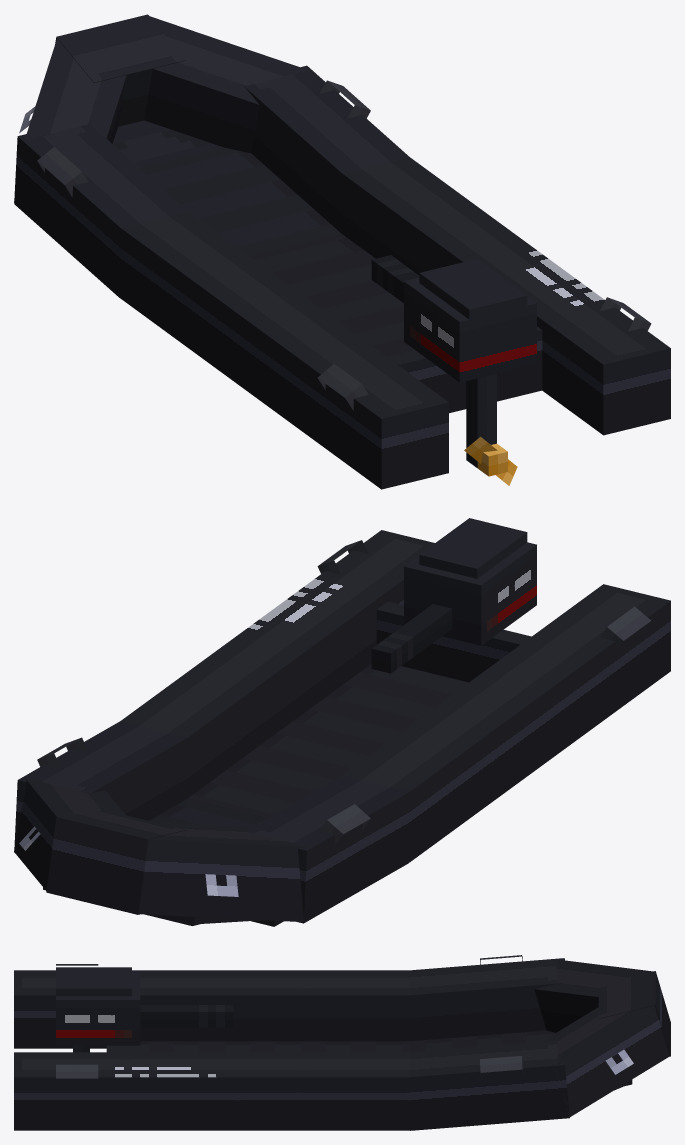
File: rubber_boat.gltf
The picture shows the model from 3 angles, top to bottom: view 1: azimuth 30°, elevation 25°; view 2: azimuth 150°, elevation 25°; view 3: azimuth 270°, elevation 25°; orthographic projection. The views are drawn at different scales.
Parts seen in each view (by area): view 1: rubber_boat (×5), rubber_boat2 (×4), rubber_boat3 (×4), engine (×4), propeller; view 2: rubber_boat (×5), rubber_boat3 (×3), rubber_boat2 (×4), engine (×3); view 3: rubber_boat (×4), rubber_boat2 (×4), rubber_boat3 (×4), engine (×3).
Boxes of the visible parts, left/top/right/bottom form: rubber_boat (×5): left=119, top=157, right=670, bottom=489; rubber_boat2 (×4): left=14, top=65, right=409, bottom=297; rubber_boat3 (×4): left=14, top=14, right=308, bottom=202; engine (×4): left=371, top=255, right=536, bottom=467; propeller: left=477, top=443, right=507, bottom=476; rubber_boat (×5): left=121, top=530, right=670, bottom=862; rubber_boat3 (×3): left=14, top=778, right=308, bottom=921; rubber_boat2 (×4): left=14, top=721, right=412, bottom=926; engine (×3): left=371, top=518, right=536, bottom=673; rubber_boat (×4): left=14, top=970, right=410, bottom=1130; rubber_boat2 (×4): left=405, top=958, right=569, bottom=1130; rubber_boat3 (×4): left=534, top=959, right=670, bottom=1116; engine (×3): left=56, top=967, right=233, bottom=1045.
Bounding box in the file's own units: 1.98 × 1.17 × 4.87.
Materials: 1 (1 with a texture image).
